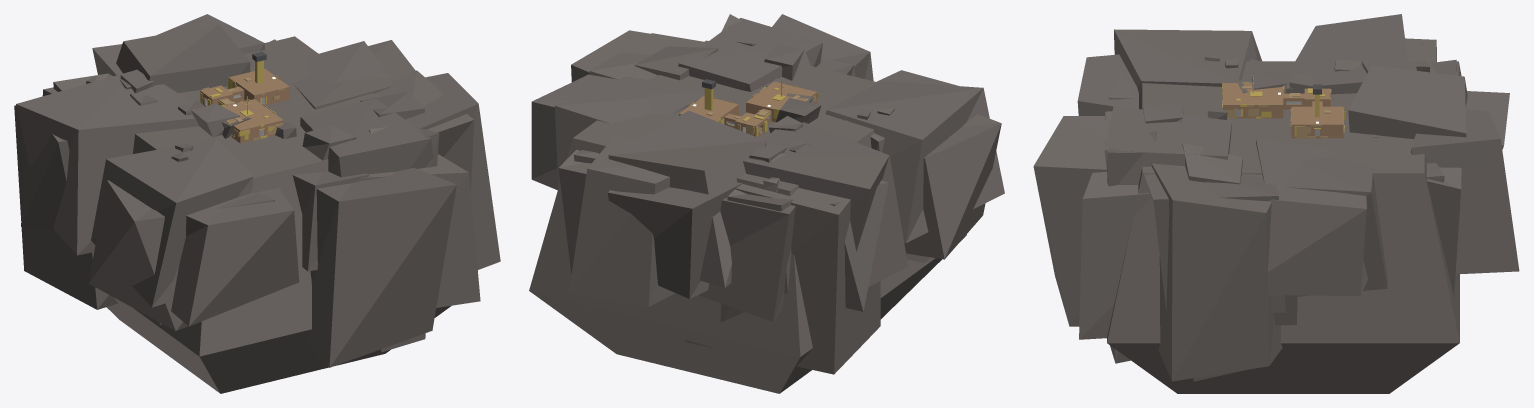
File: GROUND_MINE.glb
The picture shows the model from 3 angles, left to right: view 1: azimuth 30°, elevation 25°; view 2: azimuth 150°, elevation 25°; view 3: azimuth 270°, elevation 25°; orthographic projection. The views are drawn at different scales.
Parts seen in each view (by area): view 1: GROUND_MINE_AsteroidCrust, GROUND_MINE_Asteroid-col, GROUND_MINE_M01GCR_Hull-col, GROUND_MINE_M02DRL_Hull-col, GROUND_MINE_ScrapTrim, GROUND_MINE_ScrapPlates; view 2: GROUND_MINE_AsteroidCrust, GROUND_MINE_Asteroid-col, GROUND_MINE_M01GCR_Hull-col, GROUND_MINE_M02DRL_Hull-col; view 3: GROUND_MINE_AsteroidCrust, GROUND_MINE_Asteroid-col, GROUND_MINE_M01GCR_Hull-col, GROUND_MINE_M02DRL_Hull-col, GROUND_MINE_ScrapPlates.
Boxes of the visible parts, x1=… form: GROUND_MINE_AsteroidCrust: x1=14, y1=14, x2=500, y2=367; GROUND_MINE_Asteroid-col: x1=106, y1=36, x2=451, y2=393; GROUND_MINE_M01GCR_Hull-col: x1=223, y1=99, x2=283, y2=143; GROUND_MINE_M02DRL_Hull-col: x1=229, y1=68, x2=289, y2=105; GROUND_MINE_ScrapTrim: x1=200, y1=77, x2=276, y2=140; GROUND_MINE_ScrapPlates: x1=202, y1=75, x2=284, y2=140; GROUND_MINE_AsteroidCrust: x1=531, y1=14, x2=1004, y2=374; GROUND_MINE_Asteroid-col: x1=529, y1=40, x2=966, y2=393; GROUND_MINE_M01GCR_Hull-col: x1=746, y1=81, x2=816, y2=122; GROUND_MINE_M02DRL_Hull-col: x1=679, y1=96, x2=738, y2=122; GROUND_MINE_AsteroidCrust: x1=1033, y1=14, x2=1519, y2=381; GROUND_MINE_Asteroid-col: x1=1107, y1=61, x2=1459, y2=393; GROUND_MINE_M01GCR_Hull-col: x1=1223, y1=83, x2=1283, y2=118; GROUND_MINE_M02DRL_Hull-col: x1=1291, y1=106, x2=1343, y2=138; GROUND_MINE_ScrapPlates: x1=1222, y1=86, x2=1331, y2=138.
Bounding box in the file's own units: 159 × 105 × 168.
